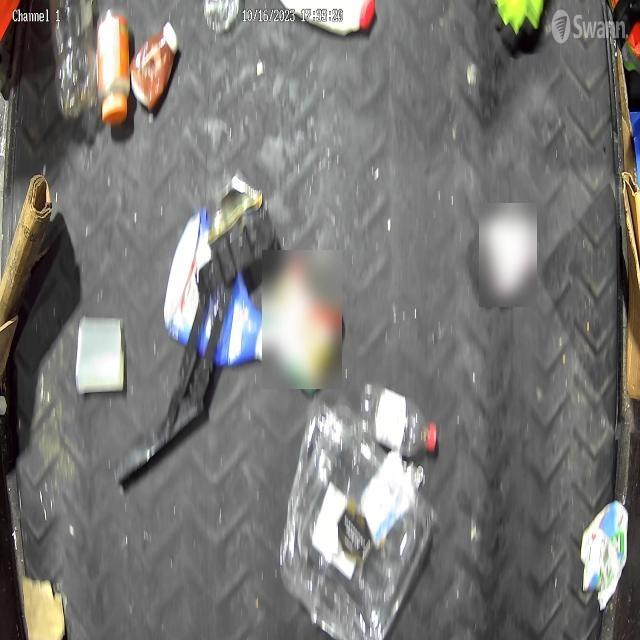non_white_jug: (164, 210, 271, 376)
plastic_bottle: (360, 370, 442, 466), (52, 2, 102, 120)
